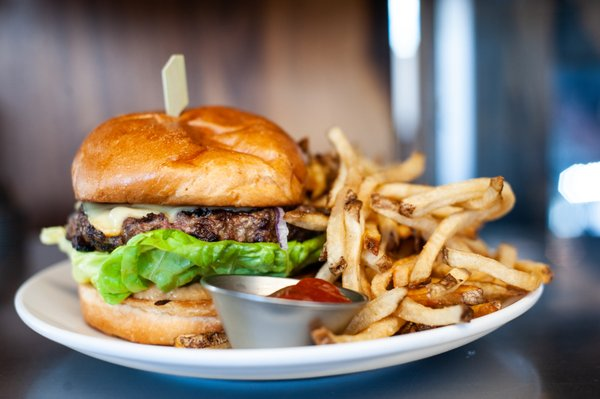soup: (51, 104, 328, 349)
sushi: (199, 274, 368, 350)
